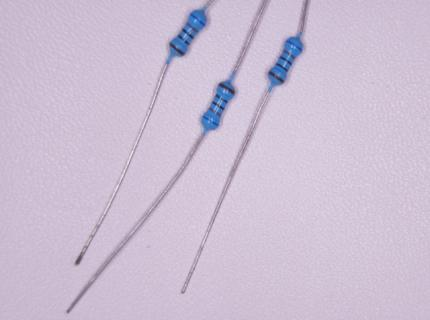Blue band: (189, 13, 206, 28), (286, 39, 303, 53), (202, 115, 219, 127)
Grey band: (185, 22, 199, 35), (281, 49, 296, 61), (208, 107, 222, 118)
